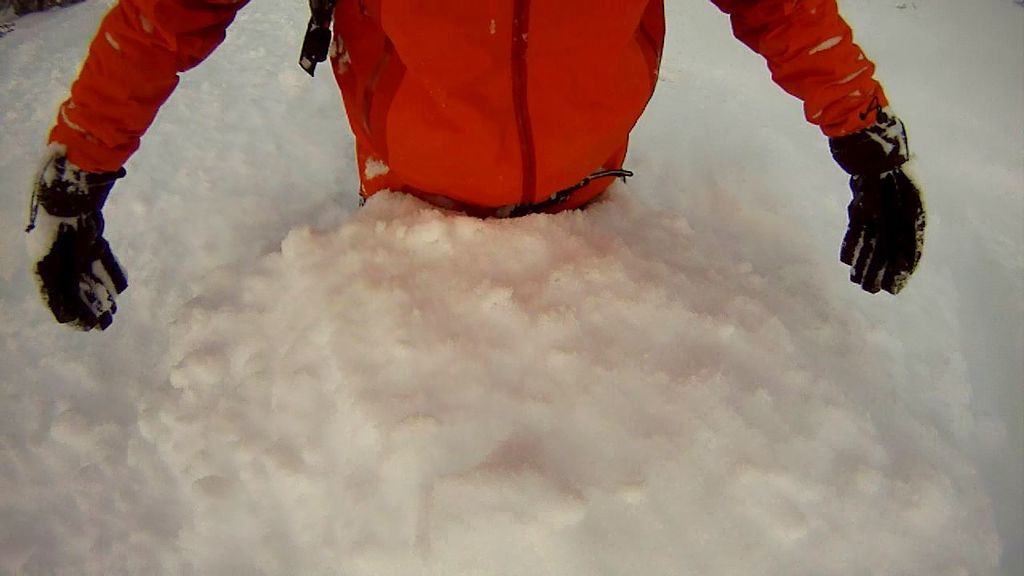Person: (22, 0, 928, 334)
